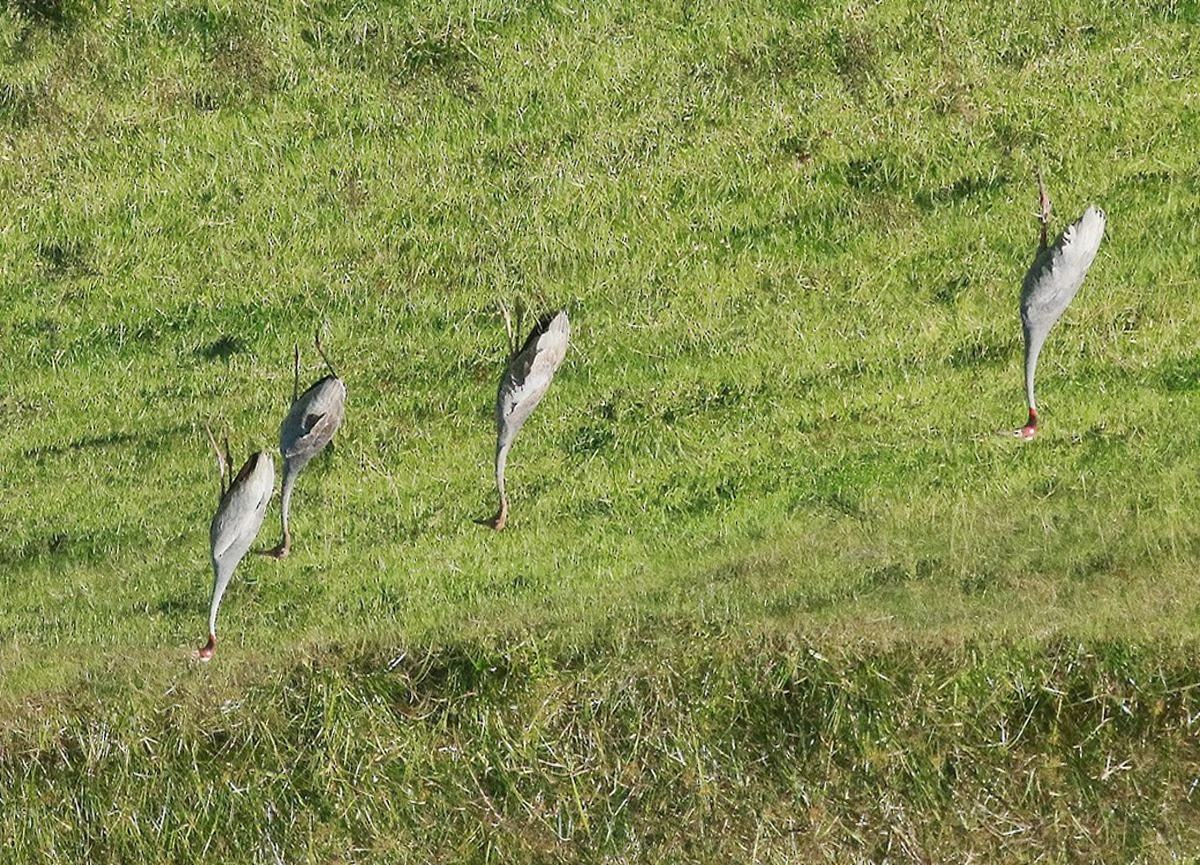crane: (1013, 170, 1114, 462), (461, 282, 576, 536), (265, 333, 359, 596), (183, 436, 275, 675)
